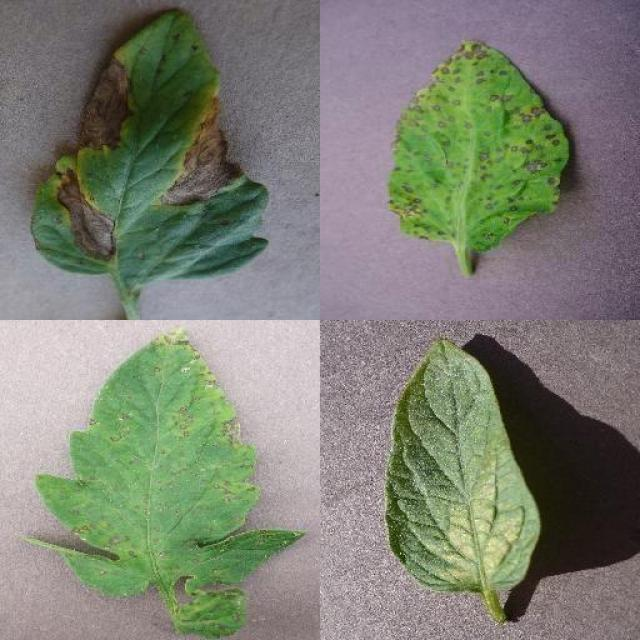Early Blight: (30, 9, 269, 282)
Septoria: (19, 331, 302, 600), (390, 39, 572, 255)
